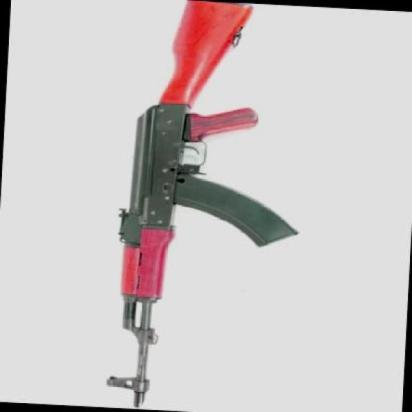Gun: (80, 0, 308, 410)
